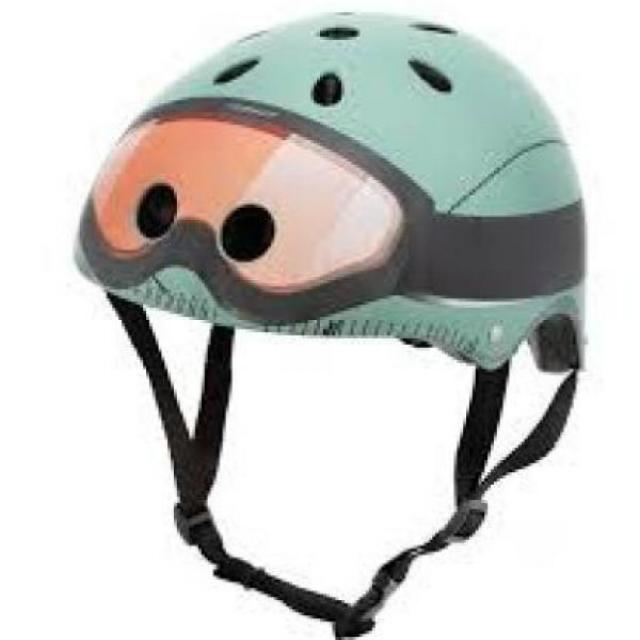Helmet: (76, 13, 584, 499)
